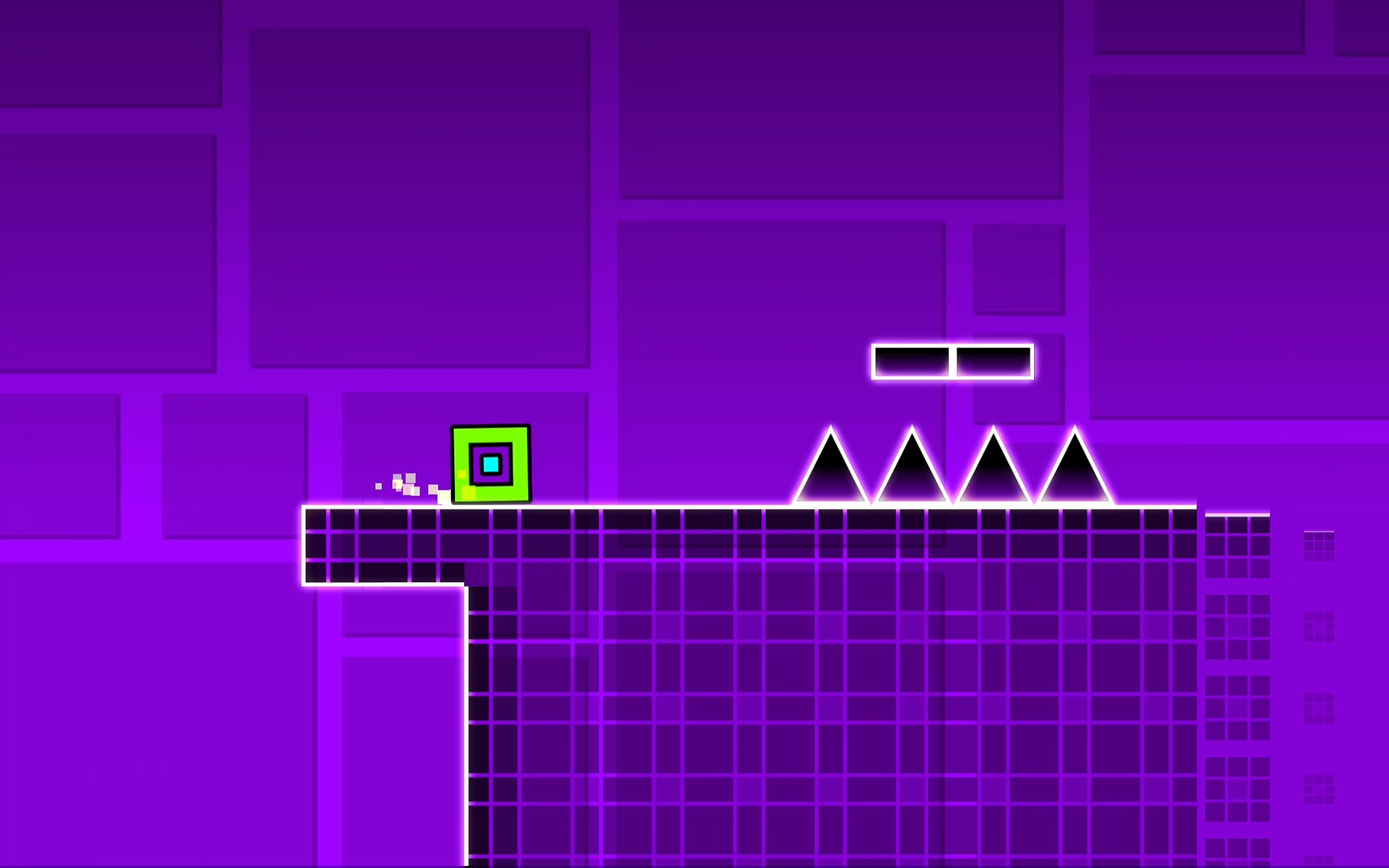Block2: (468, 500, 1275, 868), (300, 504, 468, 582)
Block3: (948, 346, 1040, 377), (874, 345, 949, 376)
Spike: (954, 426, 1032, 508), (1039, 428, 1112, 503), (795, 429, 865, 501), (872, 425, 920, 505), (925, 452, 949, 501)
